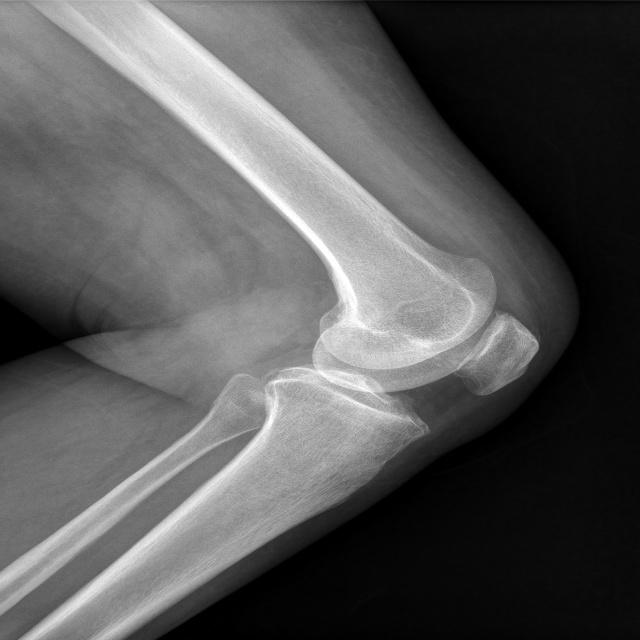Knee: (261, 257, 542, 432)
